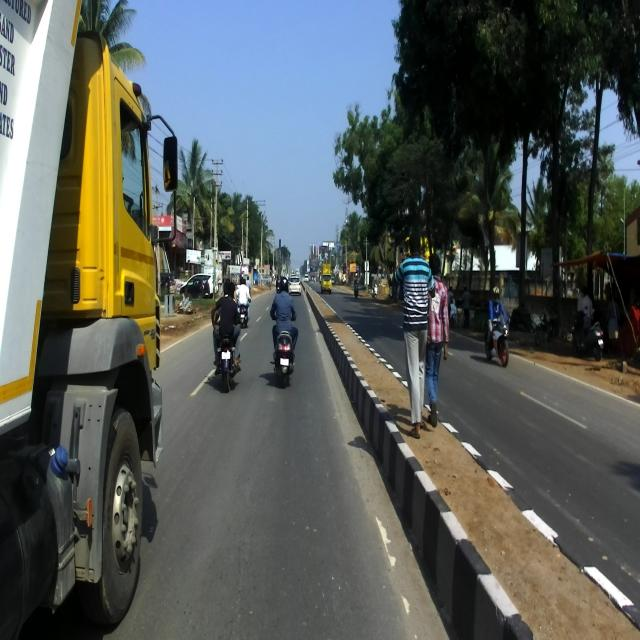motorcycle: (212, 307, 241, 393)
truck: (0, 1, 179, 638)
